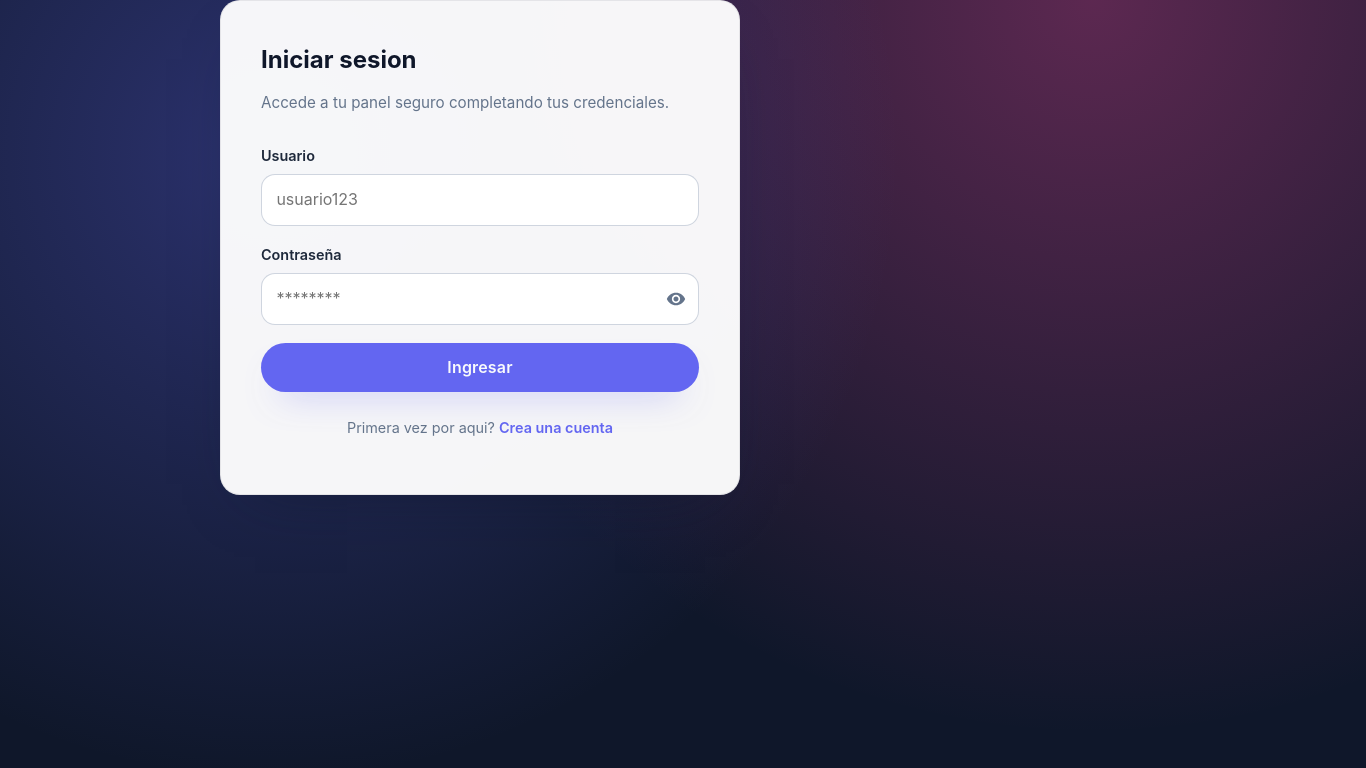
Test case: LoginForm › muestra errores de validacion cuando los campos no cumplen los requisitos
Step 1. Type "abc1" into the field labelled "Usuario" → (480,200), box [261,174,699,226]
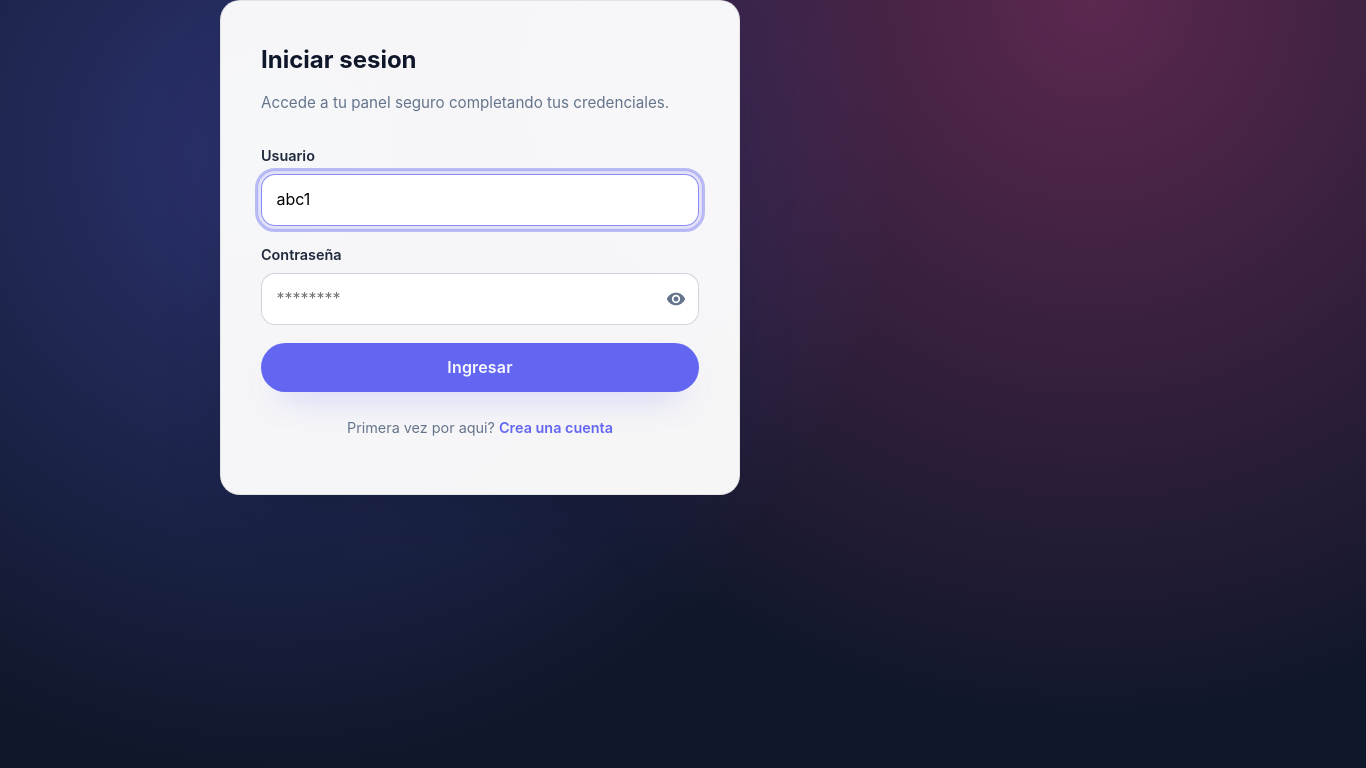
Step 2. Type "abc" into the password field labelled "Contraseña" → (480,299), box [261,273,699,325]
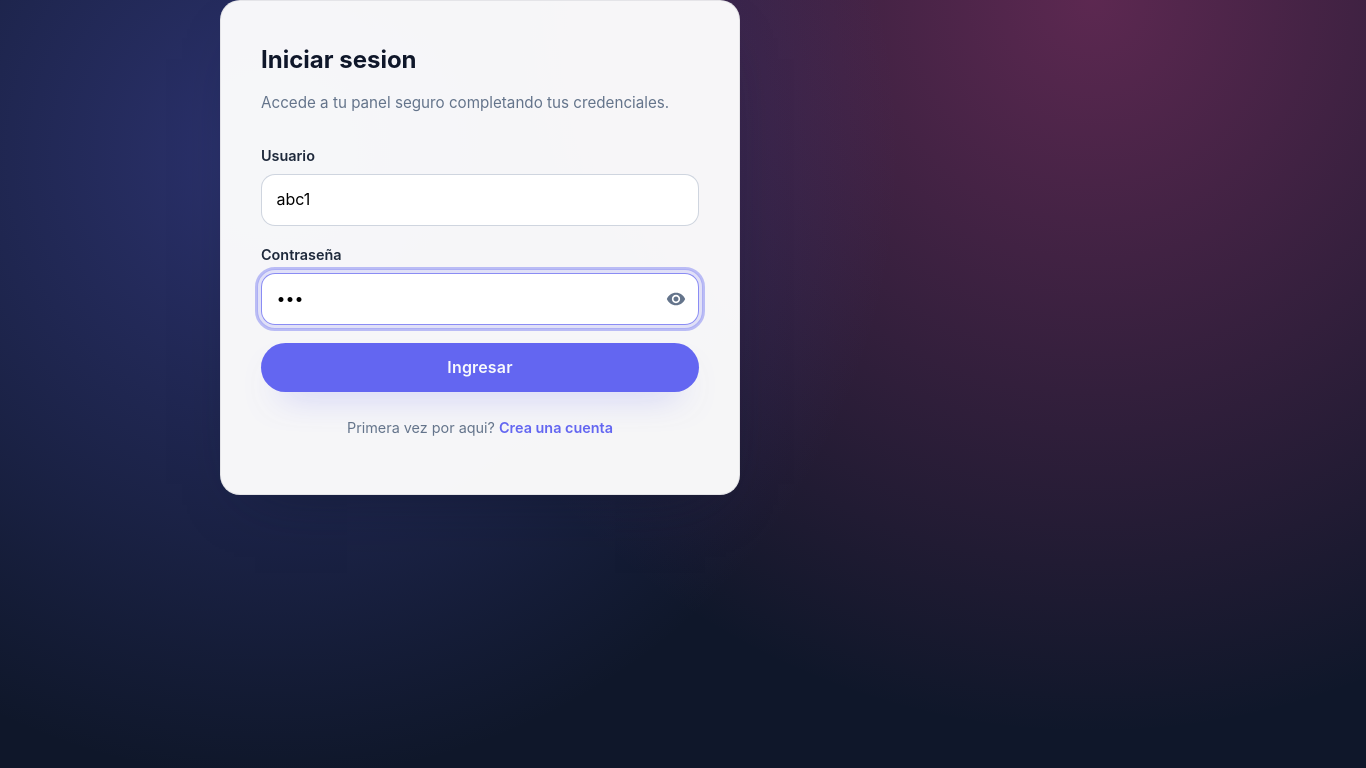
Step 3. Click the button "Ingresar" → (480,367), box [261,342,699,392]
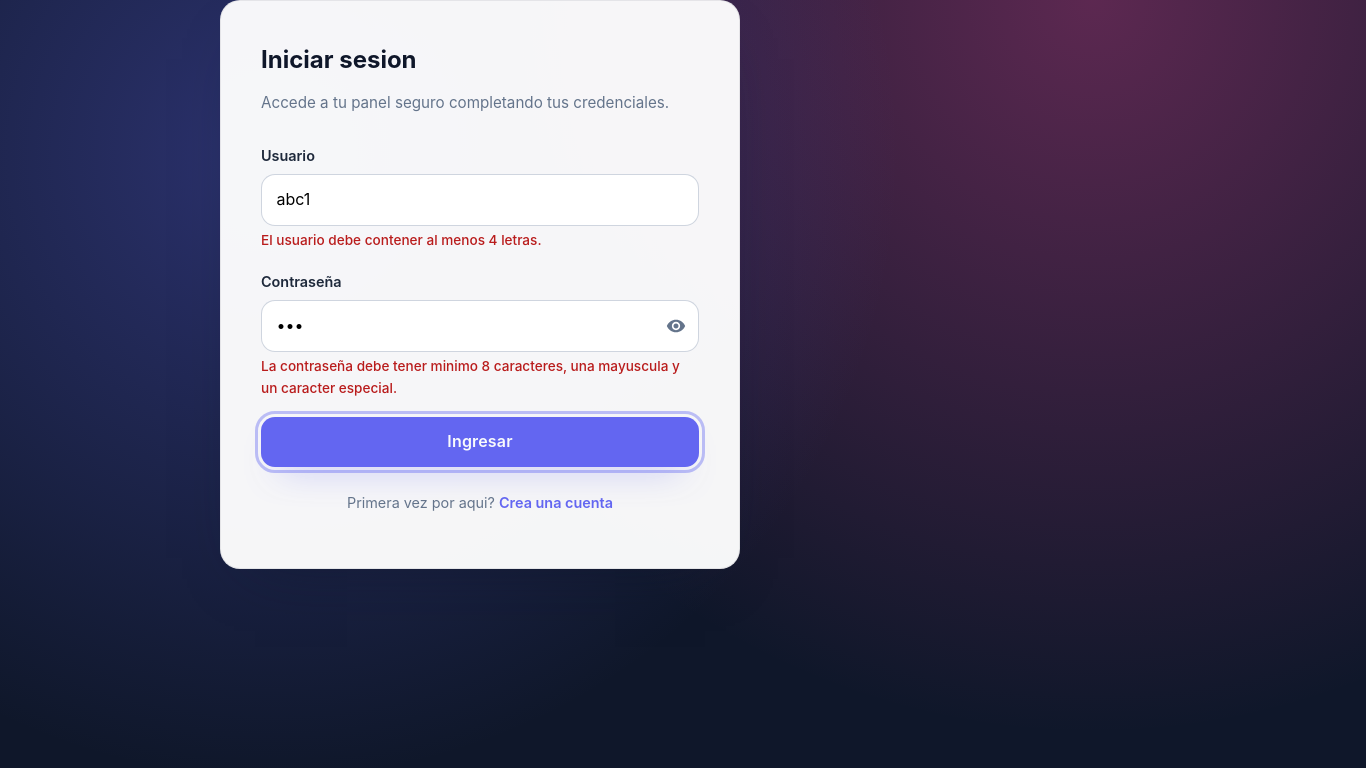
Now the text "El usuario debe contener al menos 4 letras." is shown, box [261,232,542,248]
Now the text "La contrase" is shown, box [261,358,680,396]
